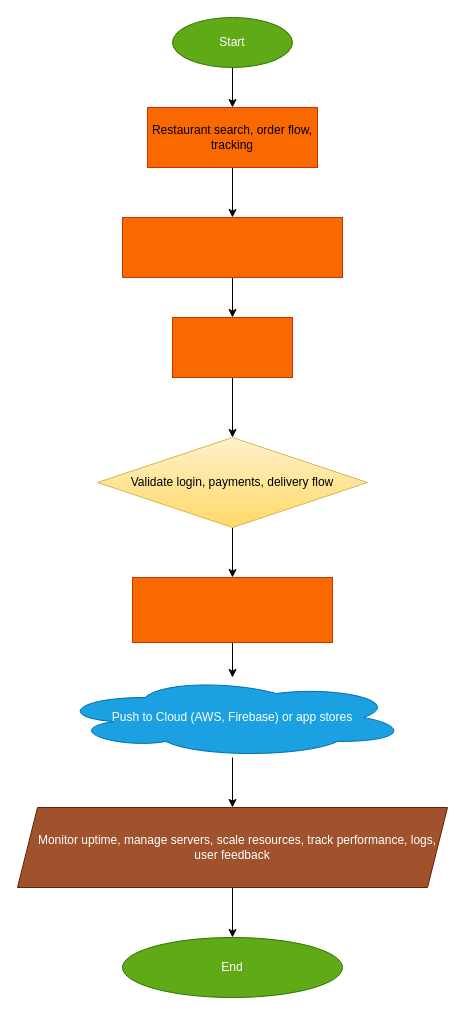
The diagram is 465 pixels wide and 1015 high, and some of its shapes have lost their labels. Here are the shapes that lost their labels. From the top down, the box of each, then its label:
(122, 216, 342, 278): Build Mobile UI, Backend APIs, admin dash board
(172, 316, 292, 378): Compile code, generate APKs, Docker Images
(132, 576, 332, 642): Approve and package for deployment
